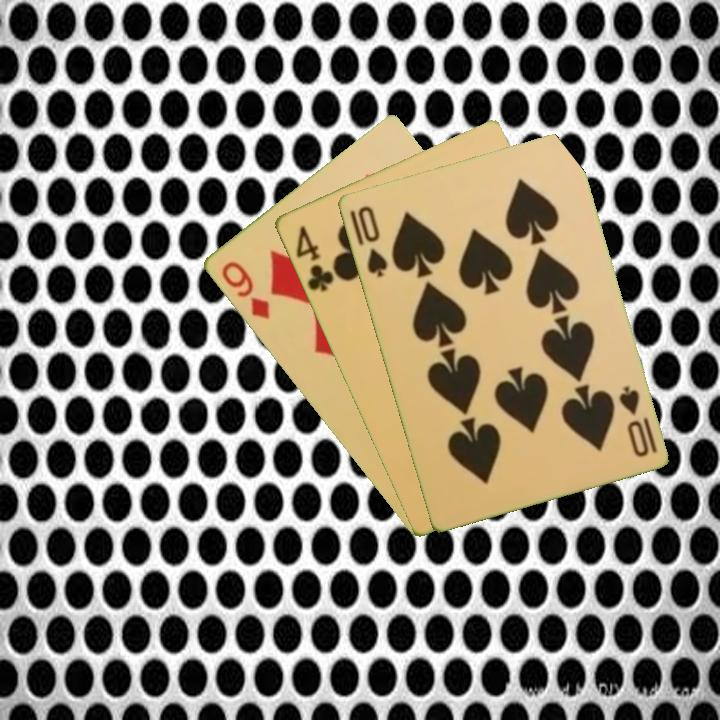10s: (614, 382, 659, 460), (353, 202, 390, 280)
4c: (291, 222, 336, 295)
9d: (217, 257, 272, 323)
